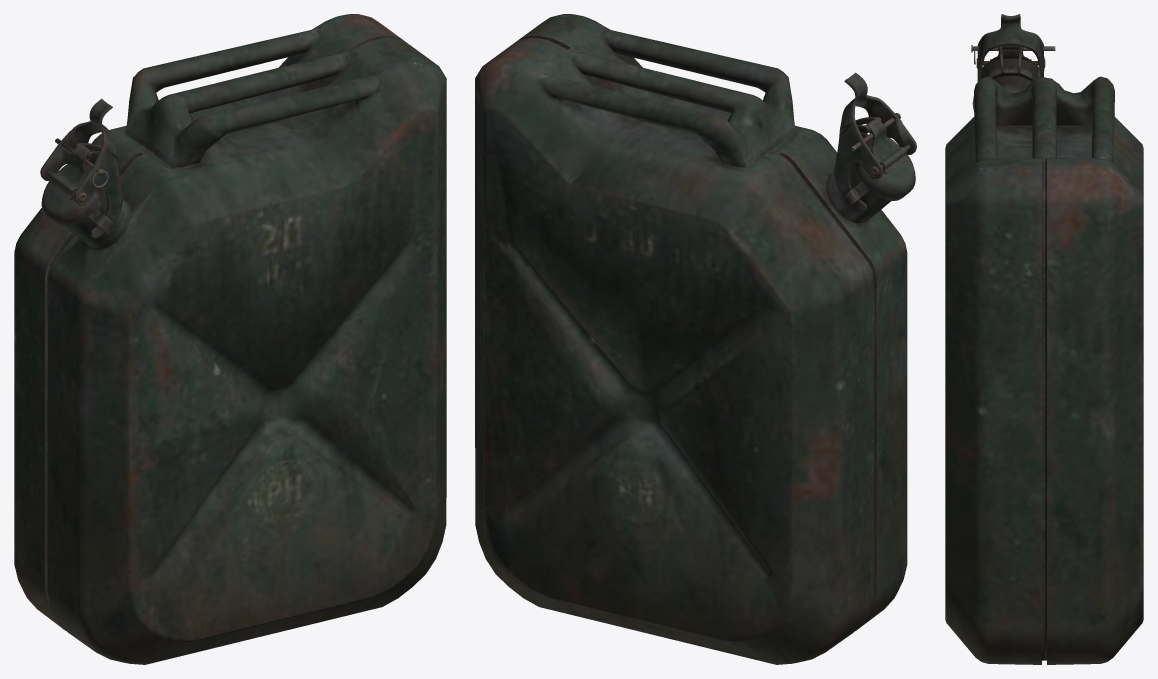
File: metal_jerrycan_green.glb
3 views of the same model, side by side, from view 1: azimuth 30°, elevation 25°; view 2: azimuth 150°, elevation 25°; view 3: azimuth 270°, elevation 25° (orthographic). The views are drawn at different scales.
Parts seen in each view (by area): view 1: metal_jerrycan_green_body, metal_jerrycan_green_latch, metal_jerrycan_green_cap; view 2: metal_jerrycan_green_body, metal_jerrycan_green_latch, metal_jerrycan_green_cap; view 3: metal_jerrycan_green_body, metal_jerrycan_green_latch, metal_jerrycan_green_cap, metal_jerrycan_green_fastener.
Part boxes in pixels (bbox=[...]): metal_jerrycan_green_body: bbox=[14, 14, 446, 664]; metal_jerrycan_green_latch: bbox=[40, 98, 122, 238]; metal_jerrycan_green_cap: bbox=[41, 144, 101, 227]; metal_jerrycan_green_body: bbox=[475, 14, 907, 664]; metal_jerrycan_green_latch: bbox=[834, 72, 916, 212]; metal_jerrycan_green_cap: bbox=[855, 118, 915, 200]; metal_jerrycan_green_body: bbox=[945, 75, 1143, 664]; metal_jerrycan_green_latch: bbox=[976, 14, 1045, 81]; metal_jerrycan_green_cap: bbox=[980, 45, 1040, 79]; metal_jerrycan_green_fastener: bbox=[989, 46, 1032, 81].
Bounding box in the file's own units: 0.3604 × 0.4999 × 0.1709.
1 material, 1 textured.
